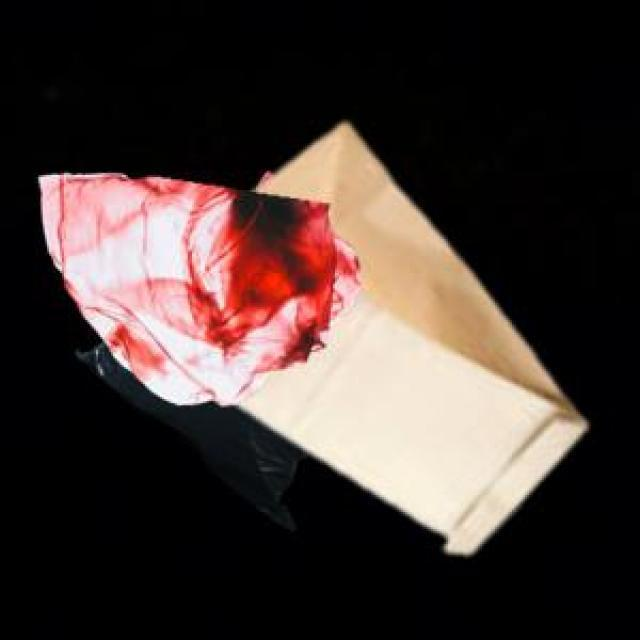miscellaneous trash: (73, 169, 305, 527)
paper: (235, 120, 582, 548)
